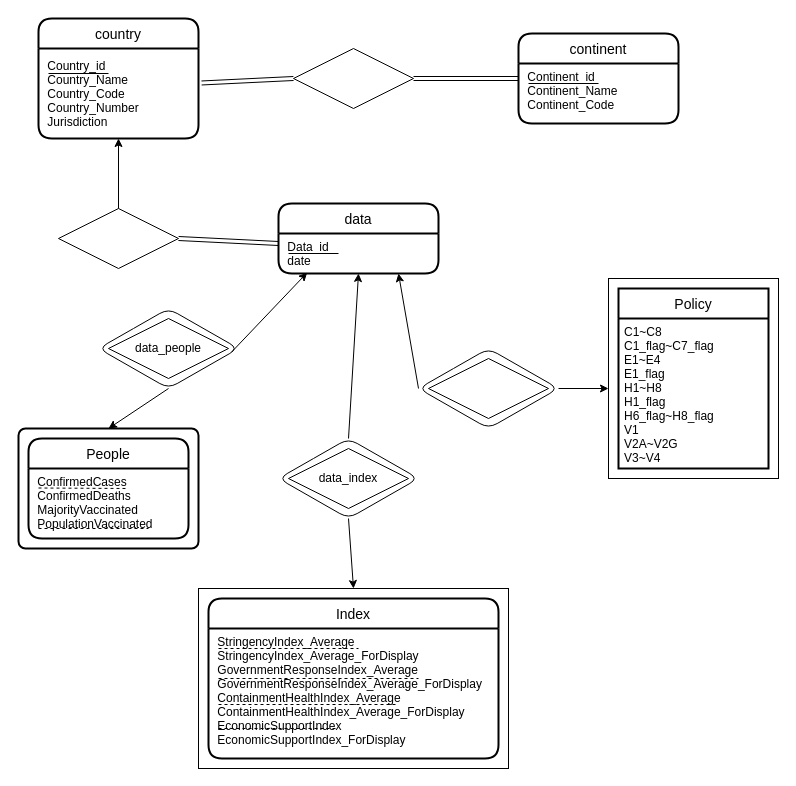
The diagram is 796 pixels wide and 786 high, and some of its shapes have lost their labels. The centre of each missing label's shape, as x and y in pixels:
country_continent: point (353, 78)
country_data: point (118, 238)
data_policy: point (488, 388)
